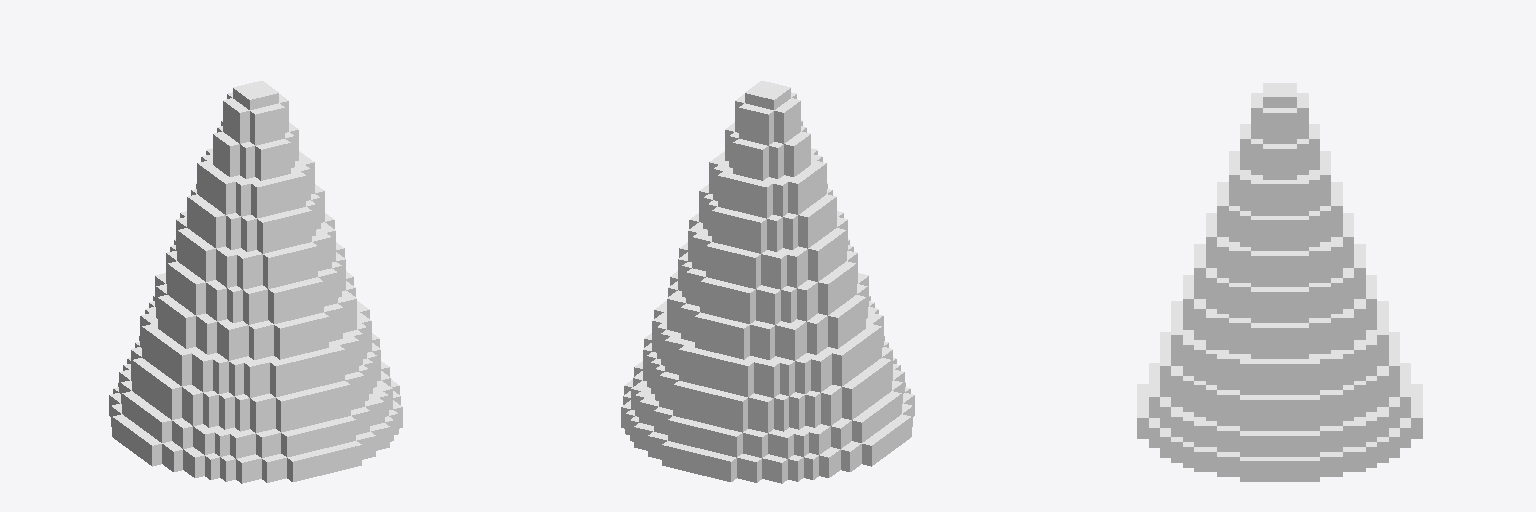
The model's file is kon.obj.
3 views of the same model, side by side, from view 1: azimuth 30°, elevation 25°; view 2: azimuth 150°, elevation 25°; view 3: azimuth 270°, elevation 25° (orthographic).
Visible parts, largest first — view 1: object 1; view 2: object 1; view 3: object 1.
Boxes of the visible parts, x1,y1,x2,y2 form: object 1: [109, 81, 402, 483]; object 1: [621, 81, 914, 483]; object 1: [1137, 83, 1422, 481].
Bounding box in the file's own units: 2.5 × 3.2 × 2.5.